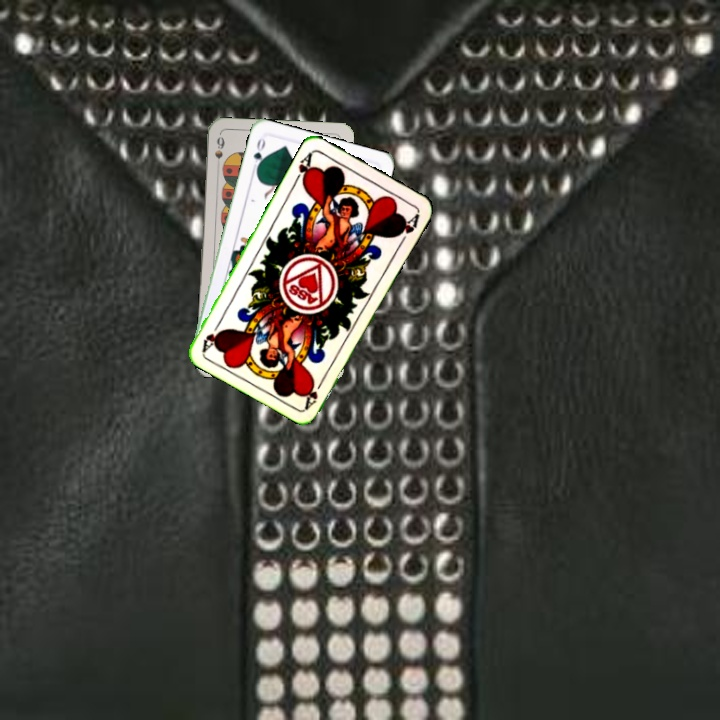GO: (248, 134, 268, 174)
HA: (301, 373, 328, 411), (290, 148, 315, 187)
S9: (211, 133, 227, 172)
